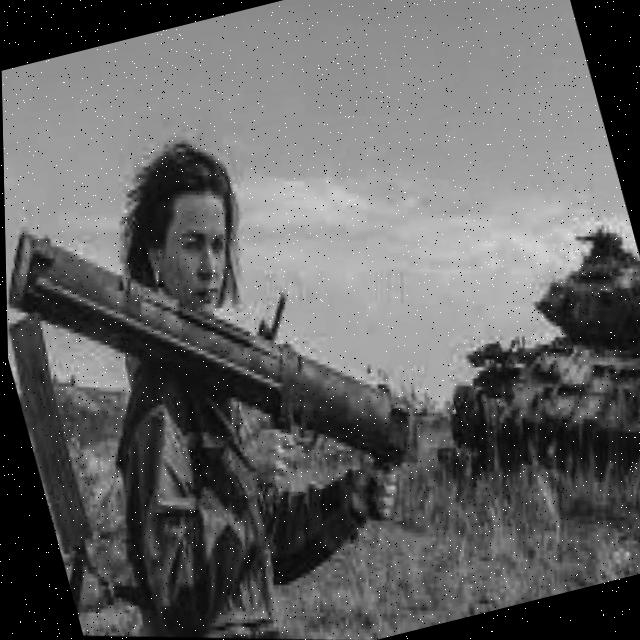rocket: (2, 130, 472, 557)
